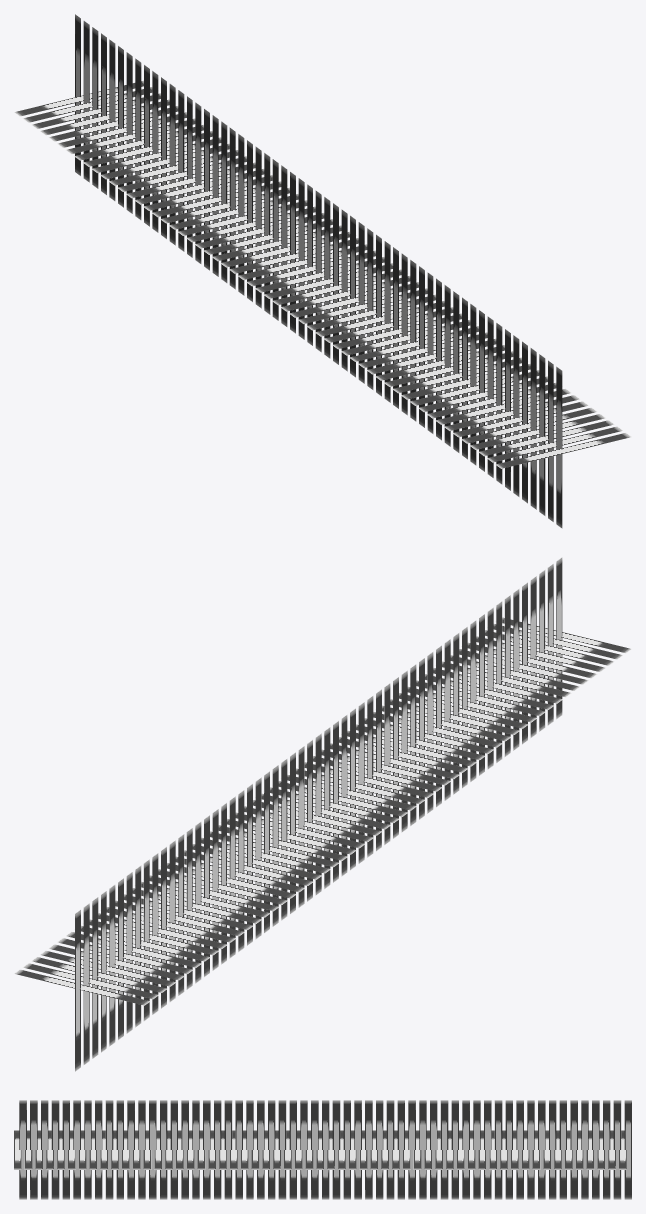
The model's file is nobiru_kusari 1.FBX.
3 views of the same model, one above another, from view 1: azimuth 30°, elevation 25°; view 2: azimuth 150°, elevation 25°; view 3: azimuth 270°, elevation 25° (orthographic). The views are drawn at different scales.
Visible parts, largest first — view 1: chain; view 2: chain; view 3: chain.
Part boxes in pixels (x1,y1,x2,y2): chain: (14,14,631,528); chain: (14,557,631,1071); chain: (14,1100,631,1199).
Bounding box in the file's own units: 0.29 × 0.3348 × 1.89.
